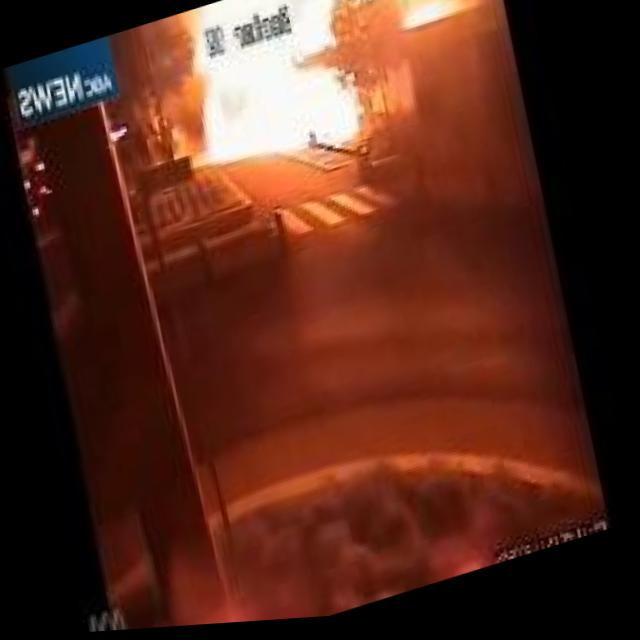fire: (148, 0, 525, 201)
